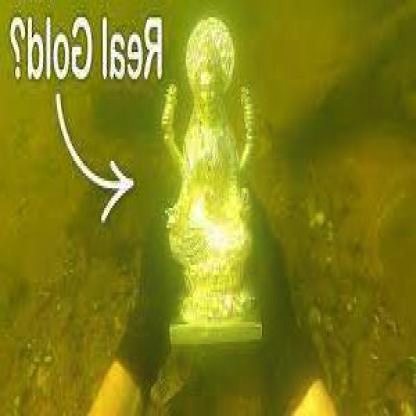metal: (165, 17, 263, 347)
